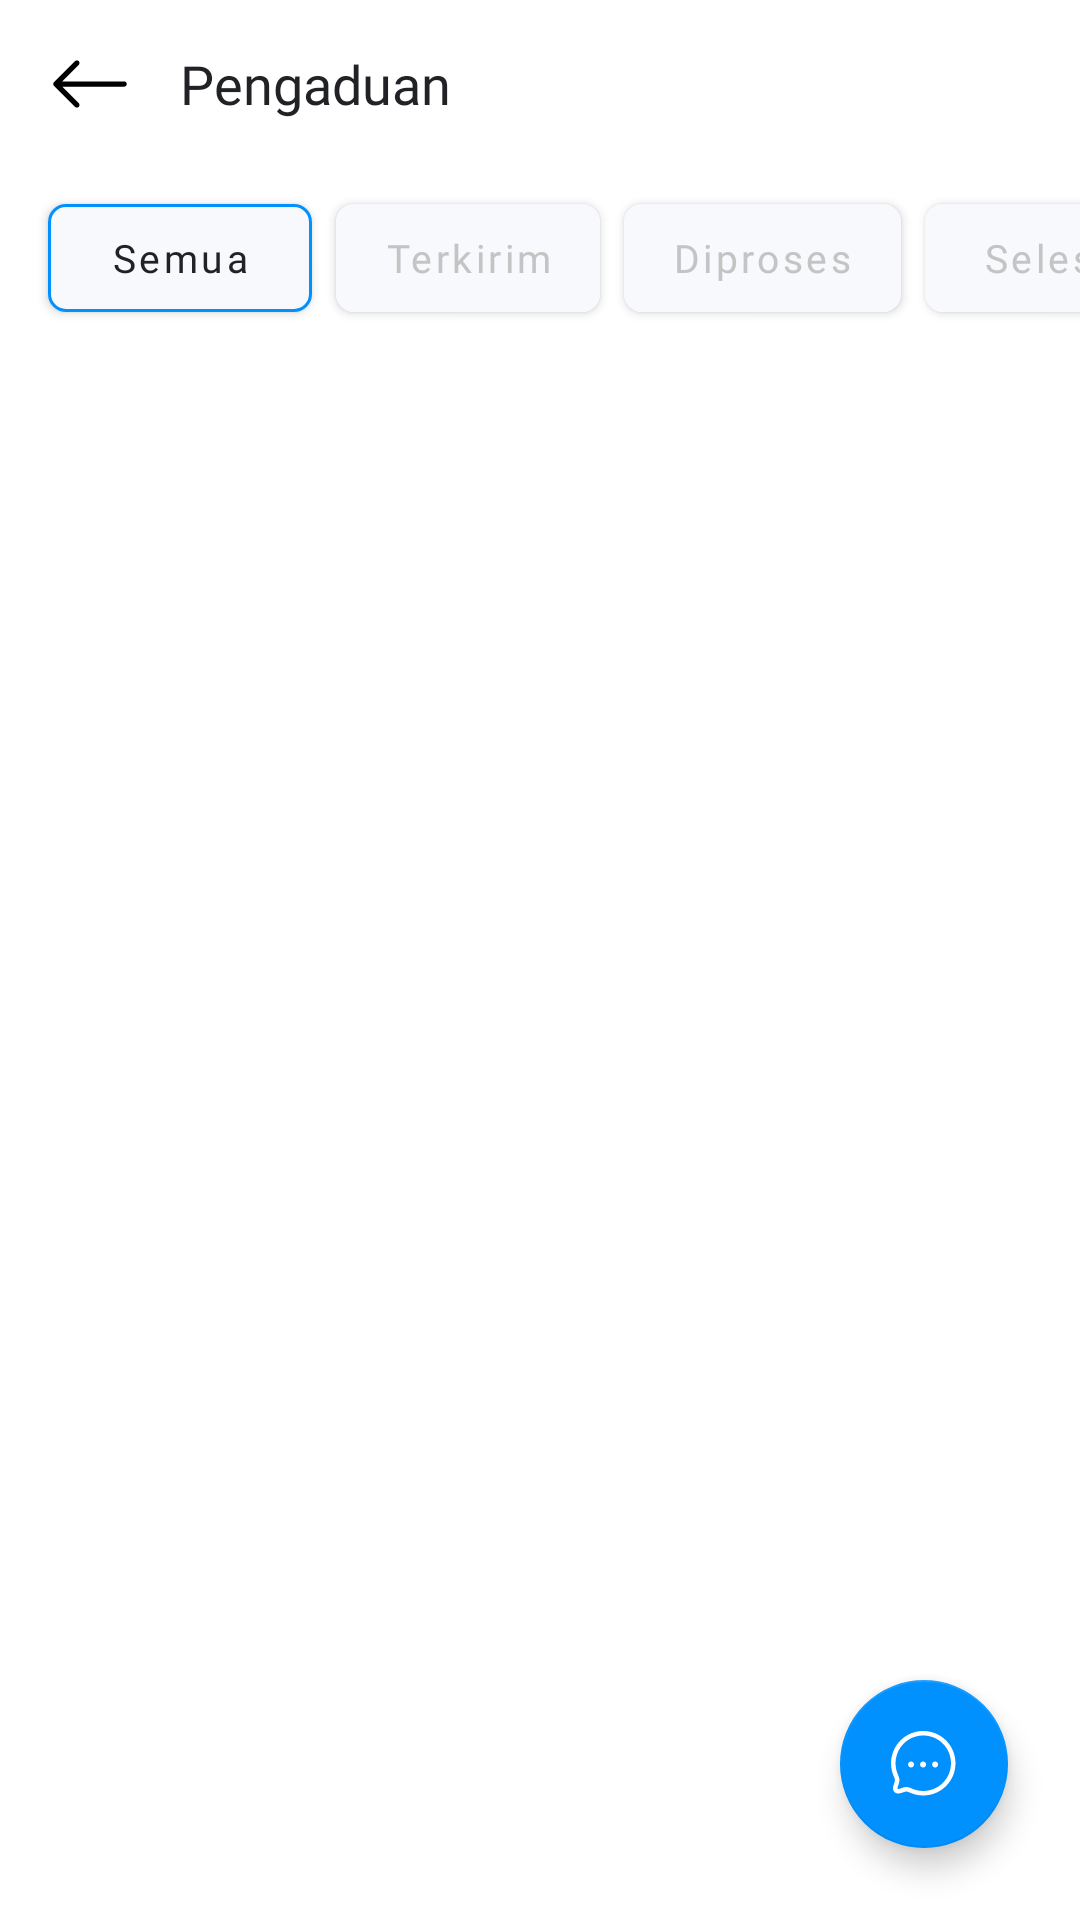

Locate icon controls on the screen. Image size 1080 × 1920, boxes as {"x1": x1, "y1": y1, "x2": x2, "y2": y2}.
back: {"x1": 53, "y1": 60, "x2": 127, "y2": 108}
